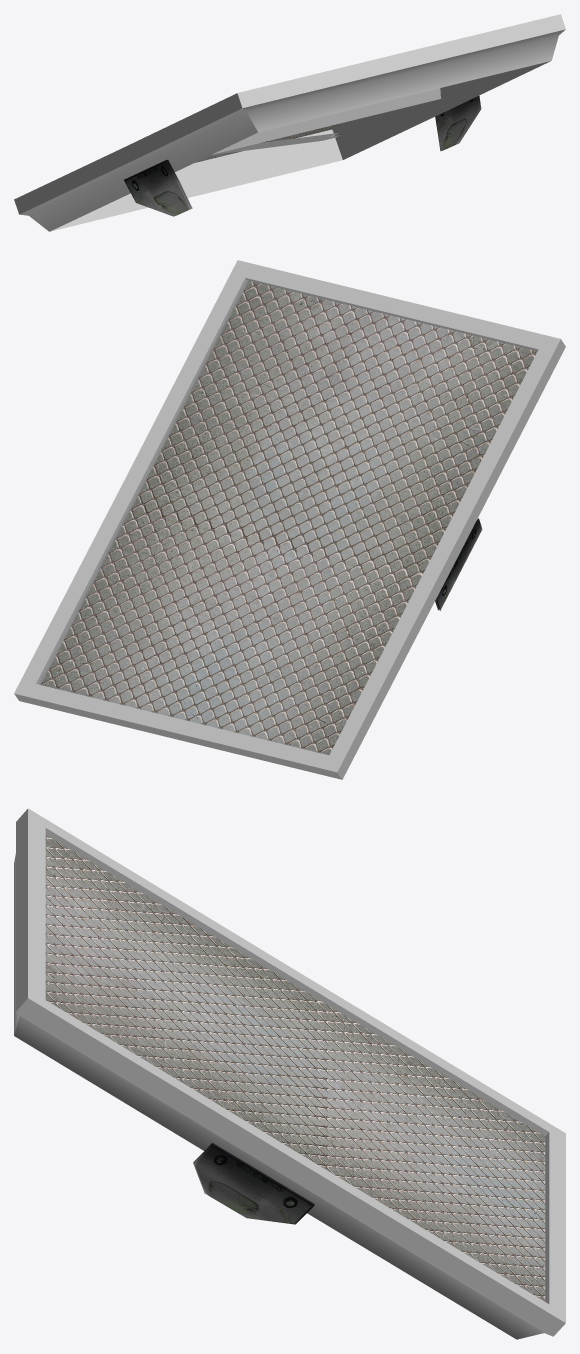
The model's file is Floor_F_2'5qmts_17.fbx.
3 renders of one model, top to bottom at view 1: azimuth 30°, elevation 25°; view 2: azimuth 150°, elevation 25°; view 3: azimuth 270°, elevation 25°, orthographic. The views are drawn at different scales.
Visible parts, largest first — view 1: frame_, details_, grid_; view 2: grid_, frame_, details_; view 3: grid_, frame_, details_.
Part boxes in pixels (x1,y1,x2,y2): frame_: (14,14,565,231); details_: (124,96,481,216); grid_: (195,121,348,162); grid_: (39,280,537,755); frame_: (14,260,565,779); details_: (435,518,482,610); grid_: (45,835,545,1301); frame_: (14,808,565,1339); details_: (193,1143,314,1224).
Size of the model in its own units: 251 by 216 by 308.
